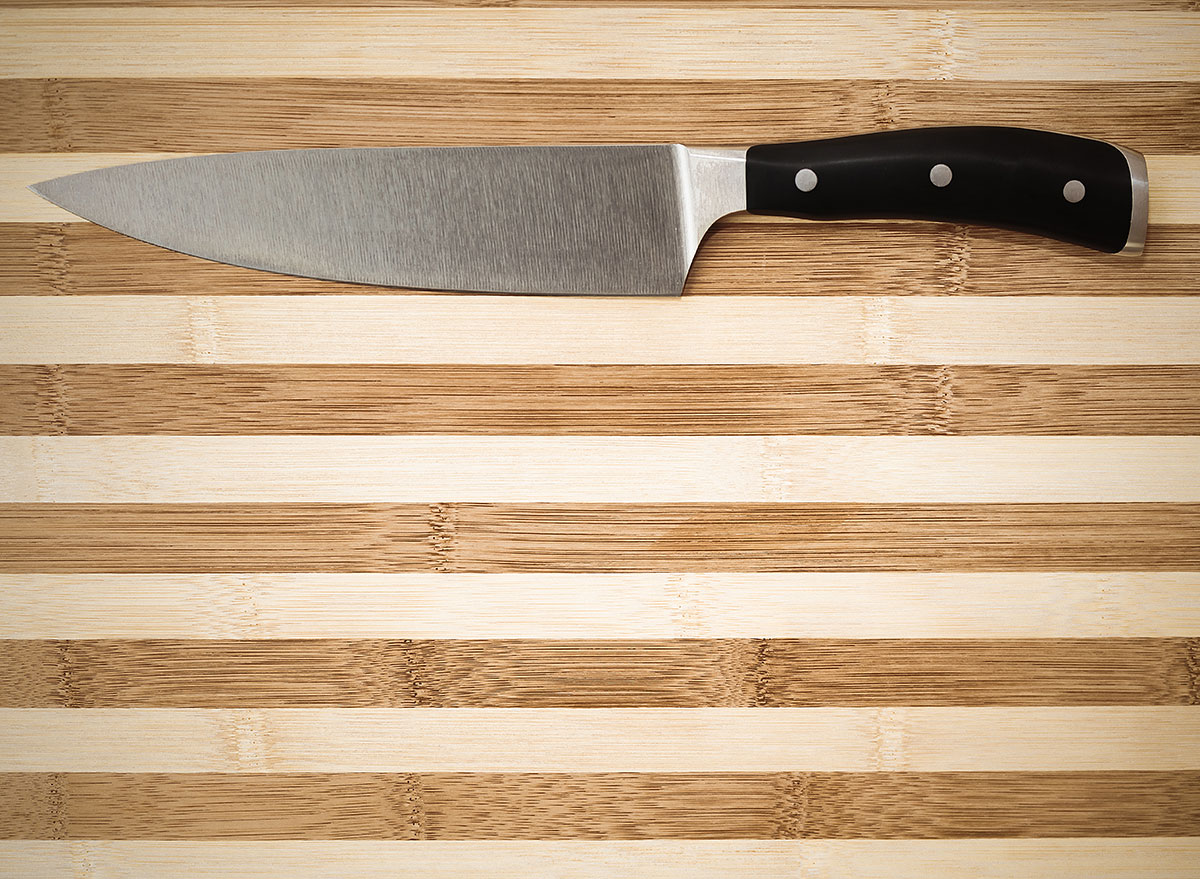knife: (25, 129, 1149, 302)
